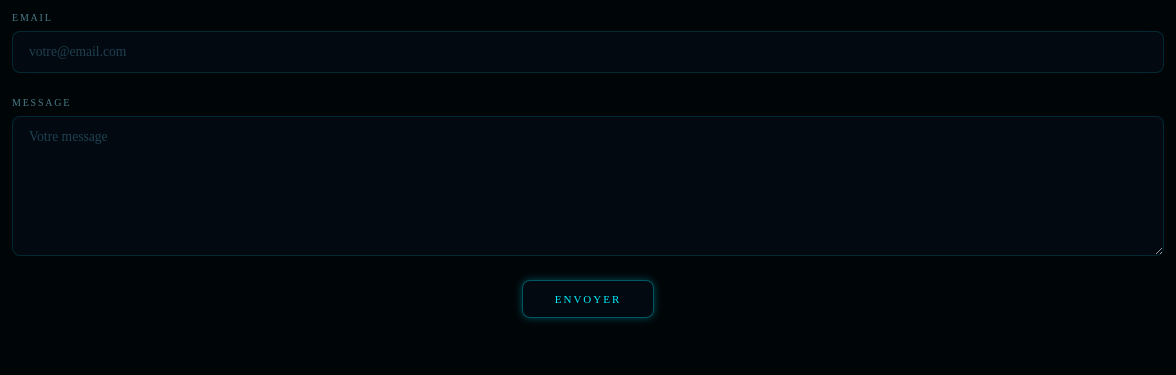
it: ContactForm › button is re-enabled with a new token after reset
Type "test@example.com" into the field labelled "Email".
click(588, 52); type("test@example.com")  # box [12, 31, 1164, 73]
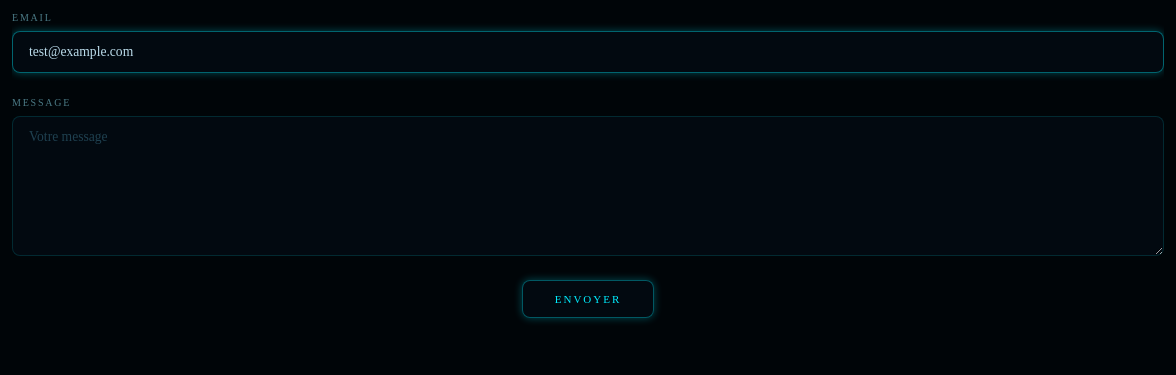
Type "Un message valide de test." into the text box labelled "Message".
click(588, 186); type("Un message valide de test.")  # box [12, 116, 1164, 256]
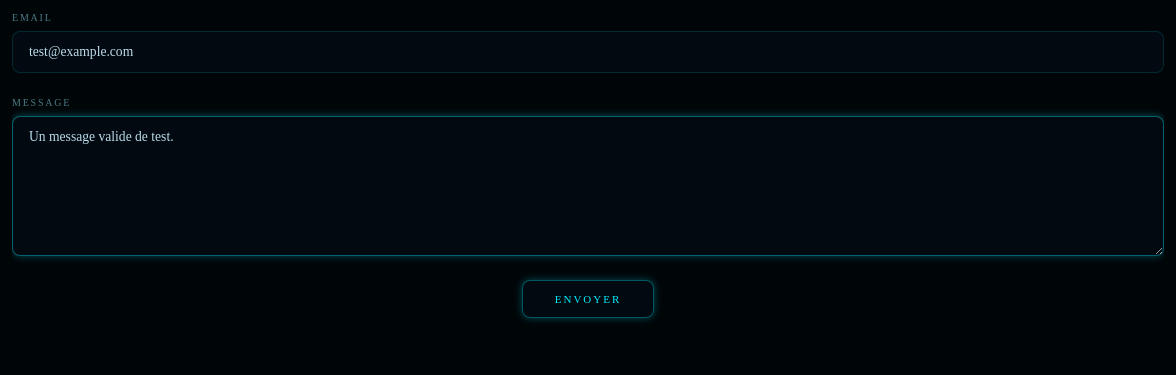
Click the button "Envoyer".
click(588, 299)  # box [522, 280, 654, 318]
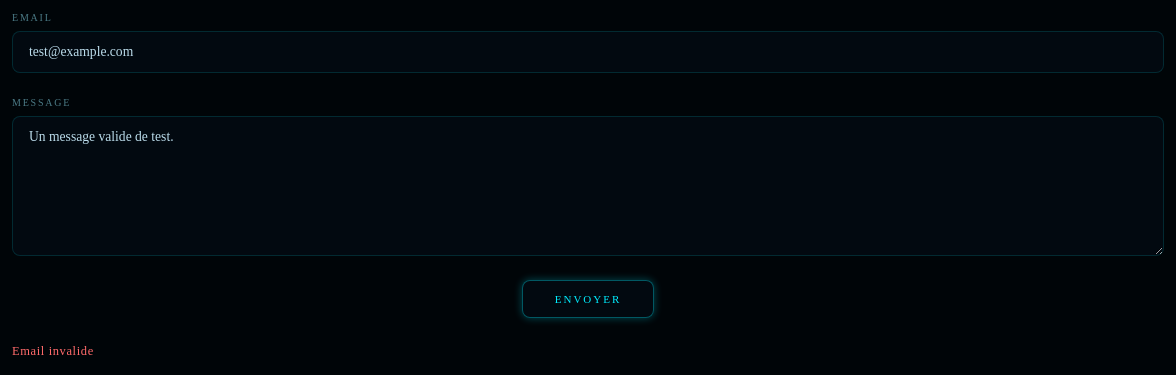
Expected: the text "Email invalide" is shown, [12, 344, 94, 358]
